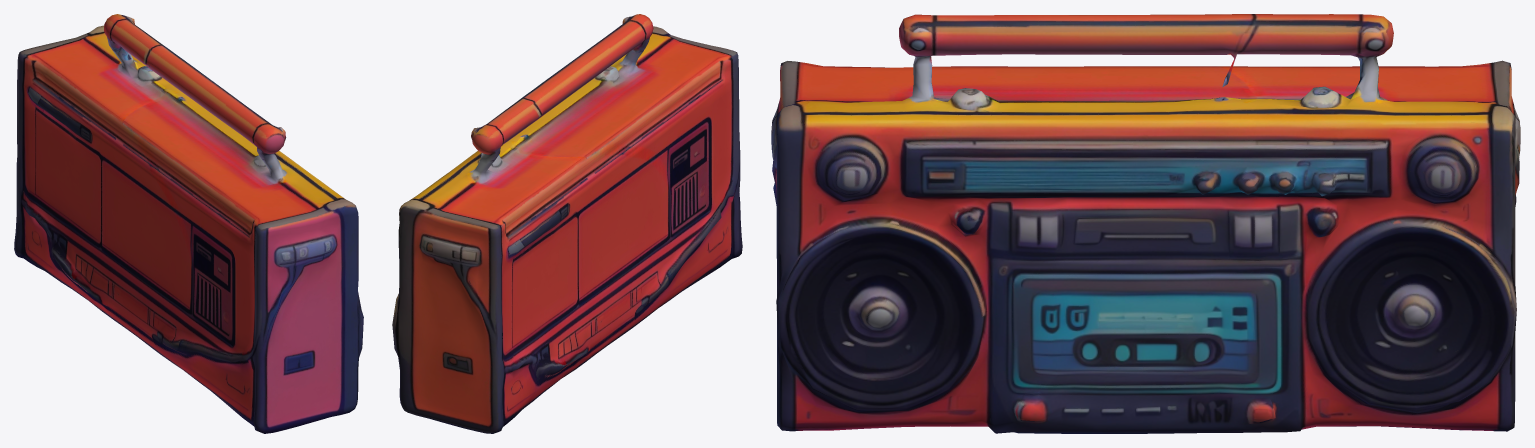
3 renders of one model, left to right at view 1: azimuth 30°, elevation 25°; view 2: azimuth 150°, elevation 25°; view 3: azimuth 270°, elevation 25°, orthographic. The views are drawn at different scales.
Visible parts, largest first — view 1: tripo_node_f669ddd3-f5d4-44d3-a662-1b8c8881ae59_tripo_mat_f6; view 2: tripo_node_f669ddd3-f5d4-44d3-a662-1b8c8881ae59_tripo_mat_f6; view 3: tripo_node_f669ddd3-f5d4-44d3-a662-1b8c8881ae59_tripo_mat_f6.
Part boxes in pixels (x1,y1,x2,y2): tripo_node_f669ddd3-f5d4-44d3-a662-1b8c8881ae59_tripo_mat_f6: (14,14,363,433); tripo_node_f669ddd3-f5d4-44d3-a662-1b8c8881ae59_tripo_mat_f6: (392,14,742,433); tripo_node_f669ddd3-f5d4-44d3-a662-1b8c8881ae59_tripo_mat_f6: (771,14,1520,433).
Size of the model in its own units: 0.2603 by 0.5472 by 0.9474.
Materials: 1 (1 with a texture image).
